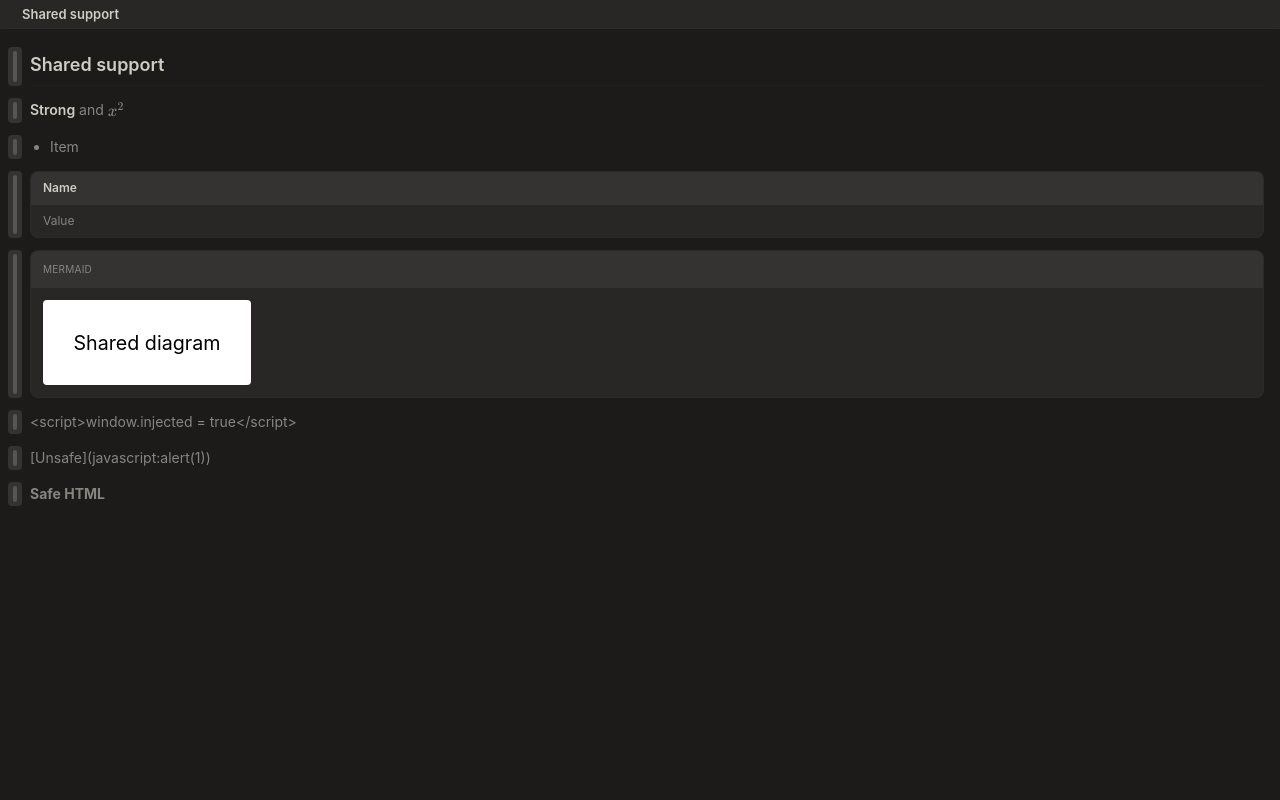
Test: shared Markdown behavior in file preview › supports the same syntax, safe HTML, formulas and diagrams
The width and height of the screenshot is (1280, 800).
expect the heading "Shared support" is shown: met, box [30,51,1264,86]
expect the table shows "Value": met, box [43,213,74,228]
Click the button with aria-label "Mermaid diagram": (147, 343) [43,300,251,385]
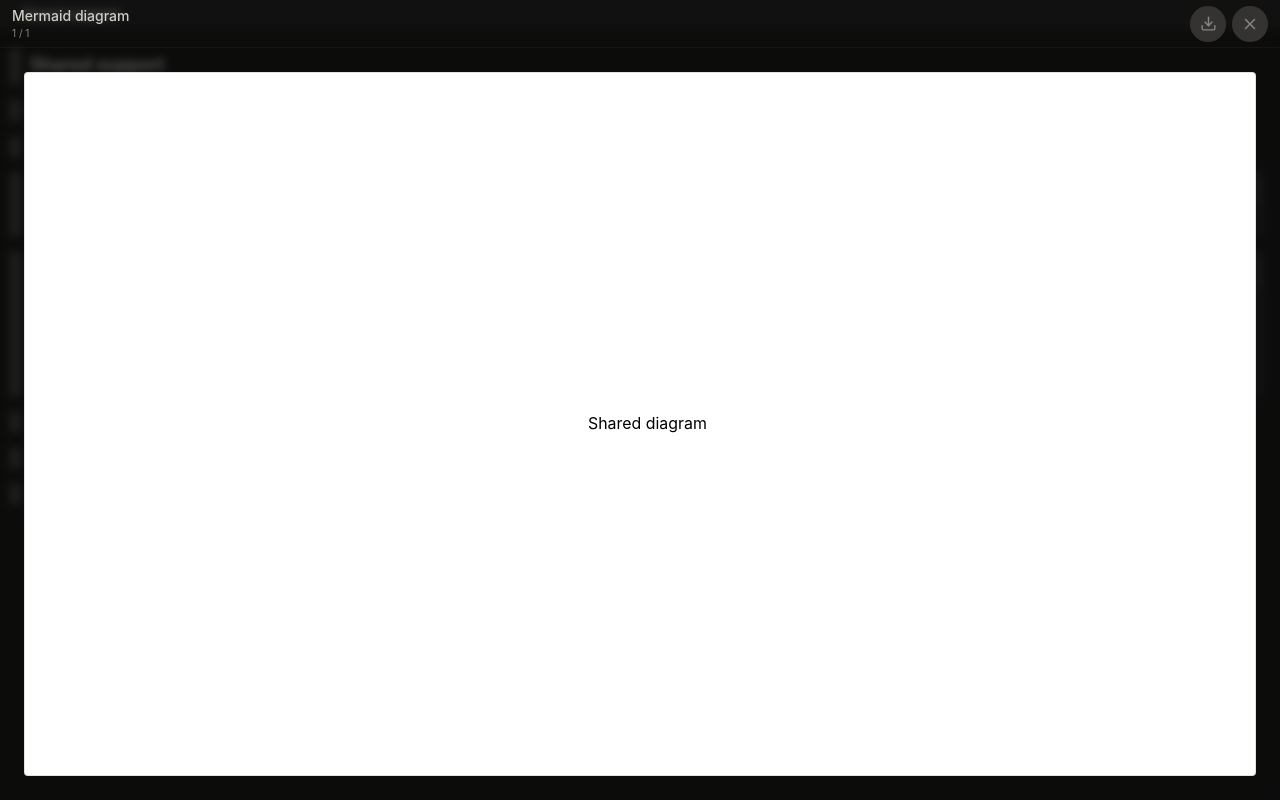
expect the button named "Close image preview" is shown: met, box [1232,6,1268,42]
